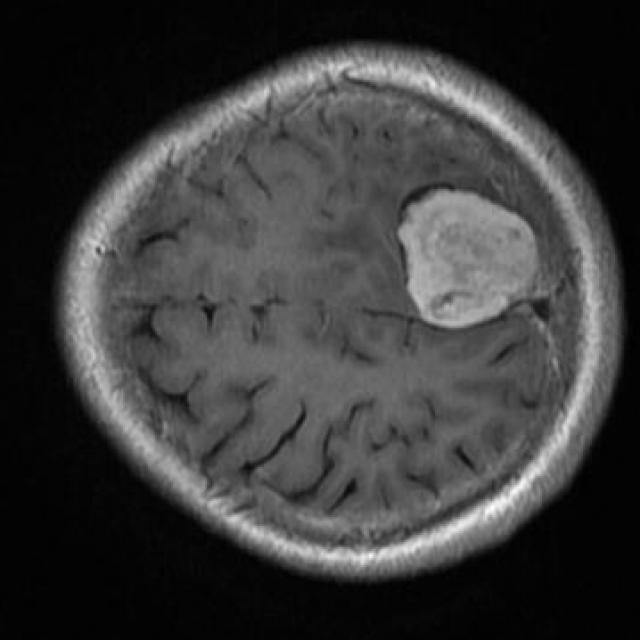meningioma: (398, 191, 538, 330)
